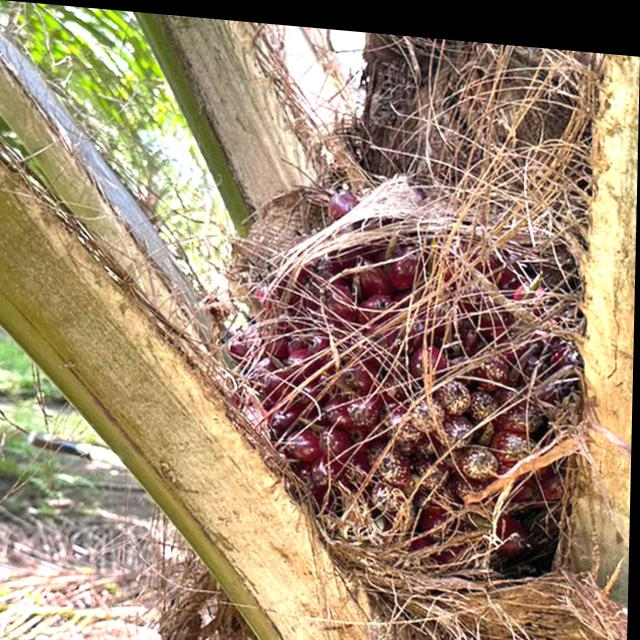ripe: (228, 132, 615, 542)
